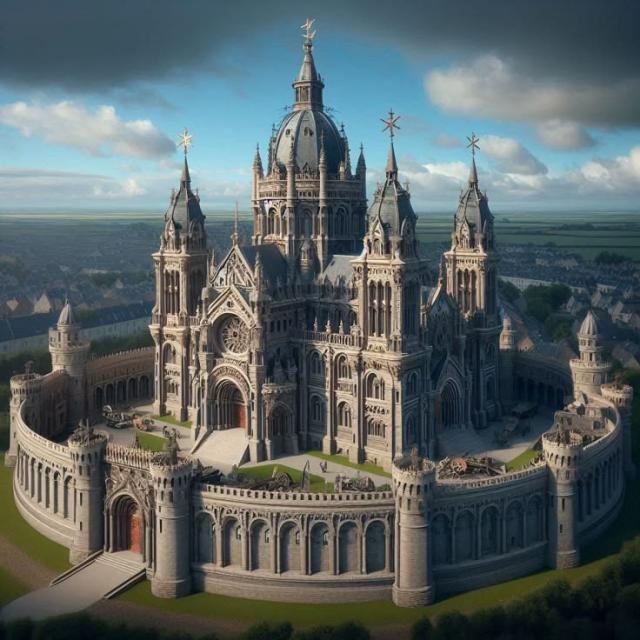castle: (8, 0, 629, 608)
